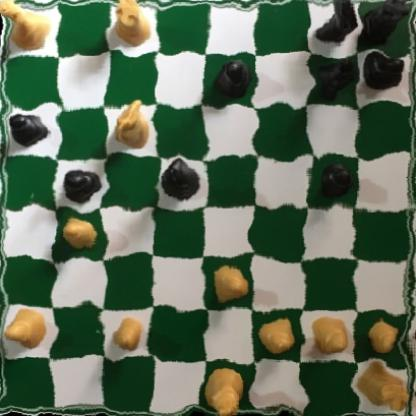black-bishop: (308, 49, 351, 100)
black-king: (158, 158, 200, 204)
black-knight: (316, 0, 361, 48)
black-pawn: (361, 47, 405, 93), (211, 56, 250, 103), (7, 108, 47, 148), (60, 166, 99, 202), (314, 164, 351, 200)
black-rook: (358, 0, 407, 50)
white-king: (204, 367, 249, 416)
white-knight: (108, 91, 152, 150)
white-pawn: (5, 302, 44, 351), (205, 264, 247, 308), (361, 320, 405, 361), (307, 316, 349, 358), (57, 214, 99, 255), (108, 313, 148, 350), (257, 317, 295, 355)
white-queen: (0, 0, 53, 57)
white-rook: (357, 363, 408, 412), (107, 0, 149, 46)
